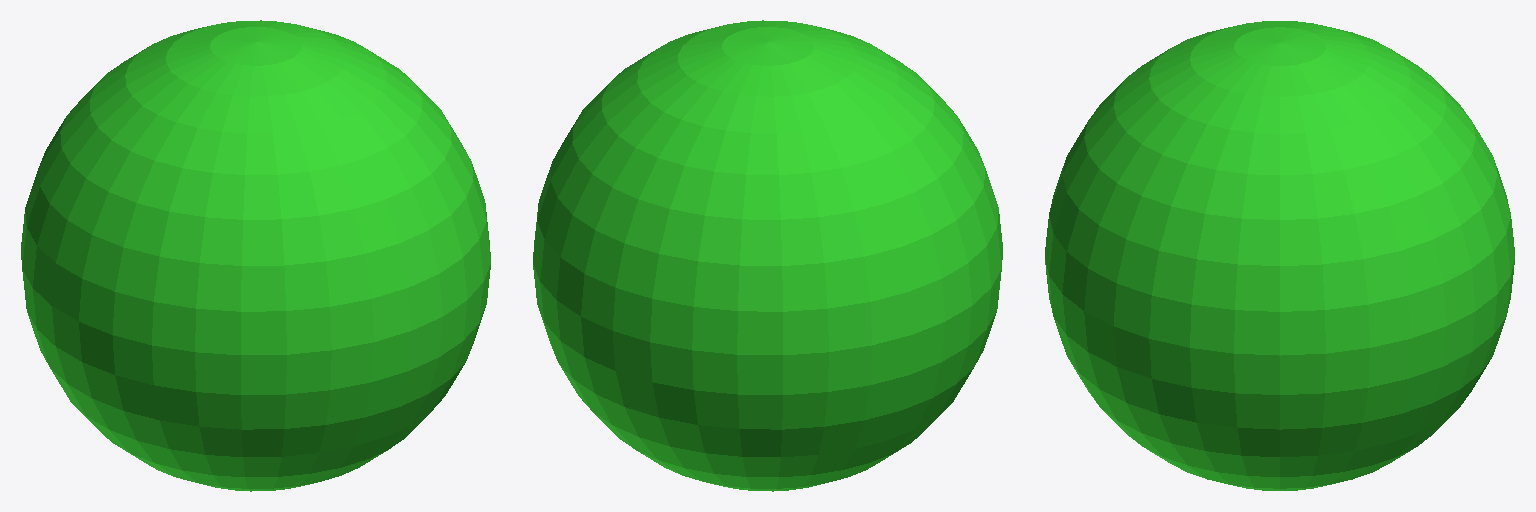
URDF robot description (ball):
<robot name="ball">
    <link name="base_link">
        <visual>
            <origin xyz="0 0 0" rpy="0 0 0"/>
            <geometry>
                <sphere radius=".2"/>
            </geometry>

          <material name="green">
            <color rgba="0.266 0.854 0.247 1"/>
          </material> 
        </visual>

        <collision>
            <origin xyz="0 0 0" rpy="0 0 0"/>
            <geometry>
                <sphere radius=".2"/>
            </geometry>
        </collision>


        <inertial>
            <origin xyz="0 0 0" rpy="0 0 0"/>
            <mass value="1"/>
            <inertia ixx="8e-03" ixy="-4-05" ixz="1e-04"
                                 iyy="8e-03" iyz="-4-06"
                                             izz="8e-03" />
        </inertial>
    </link>
    <gazebo reference="base_link">
        <mu1>1</mu1>
        <mu2>1</mu2>
        <kp>500000</kp>
        <kd>0</kd>
        <minDepth>0</minDepth>
        <maxVel>1000</maxVel>
    </gazebo>
</robot>

--- Facts derived from the render (not from the file) ---
The picture shows the robot from 3 angles, left to right: view 1: azimuth 30°, elevation 25°; view 2: azimuth 150°, elevation 25°; view 3: azimuth 270°, elevation 25°; orthographic projection.
Robot: ball — 1 links, 0 joints (none); root link base_link; default pose: all joints at 0.
Visible links, largest first — view 1: base_link; view 2: base_link; view 3: base_link.
Boxes of the visible links, box(x1,y1,x2,y2) form: base_link: box(21, 20, 490, 491); base_link: box(533, 20, 1002, 491); base_link: box(1045, 21, 1514, 490).
Bounding box of the posed robot: 0.4 × 0.4 × 0.4 m (x, y, z).
Geometry: primitives only (box / cylinder / sphere), no mesh files.